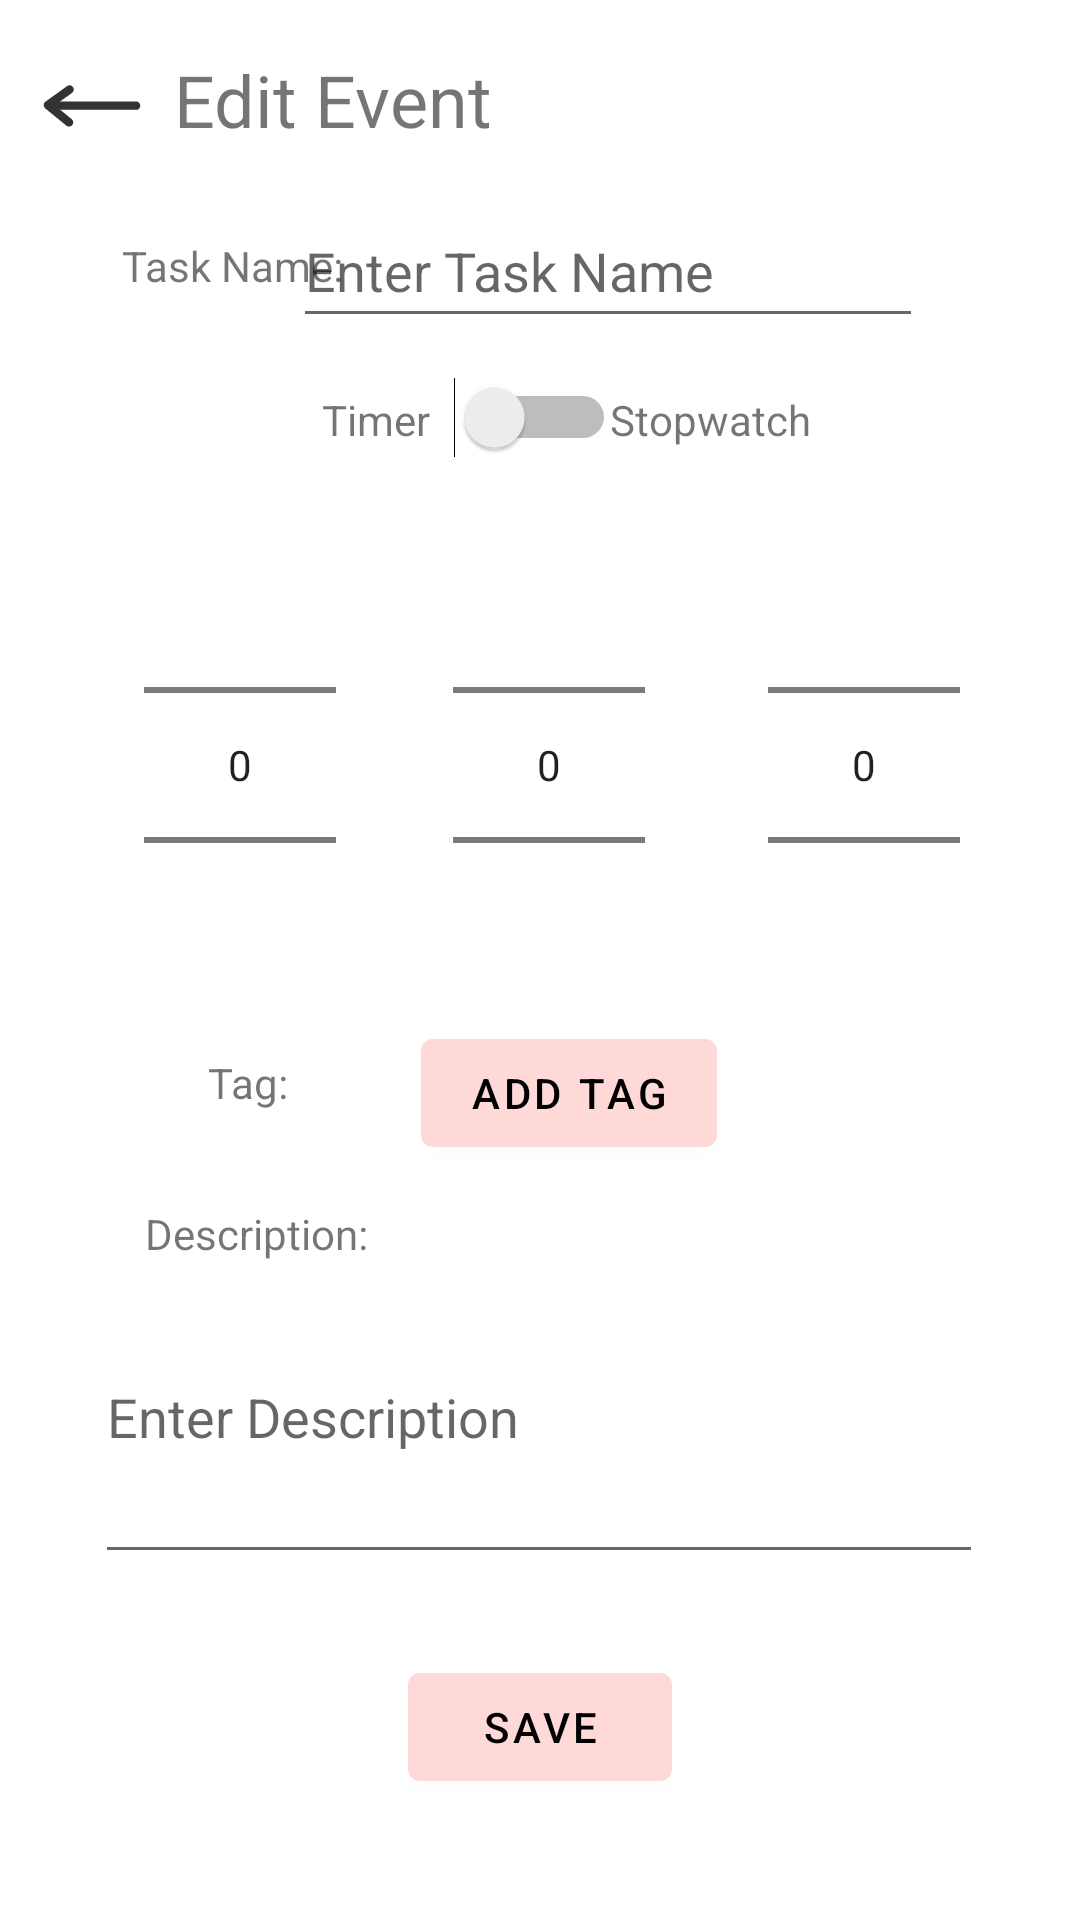

Locate icon controls on the screen. Image size 1080x1920, boxes as (x1, y1, x2, y2).
return: (43, 85, 141, 127)
